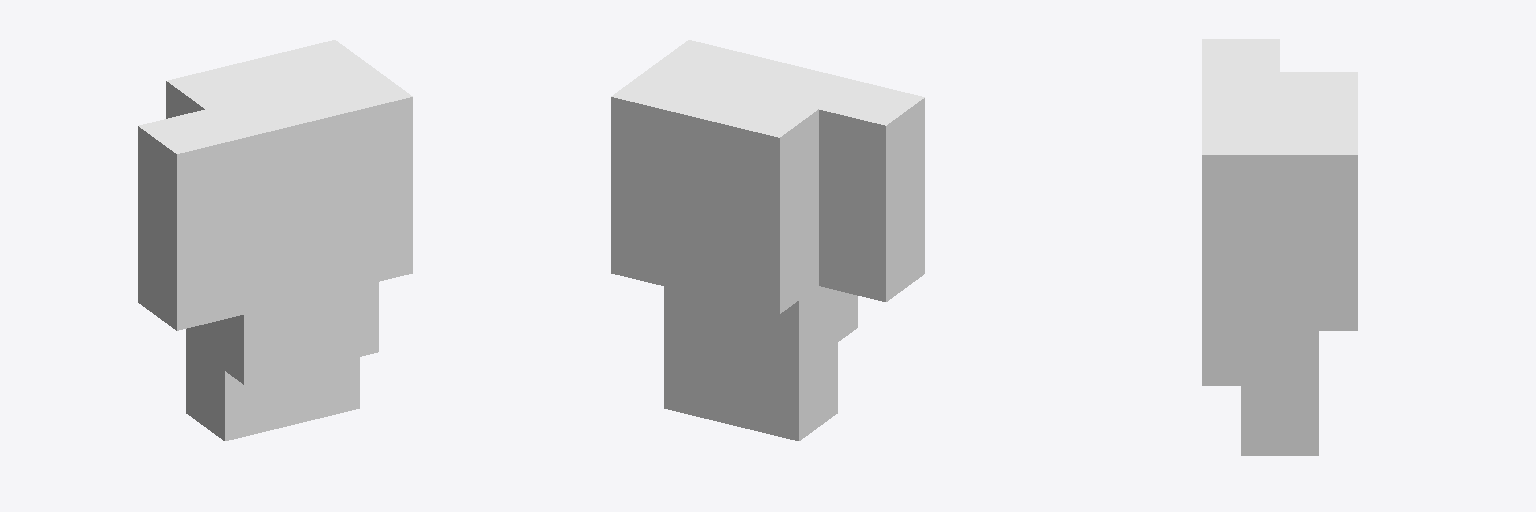
Rendered from Character1_LeftForearm.obj.
3 renders of one model, left to right at view 1: azimuth 30°, elevation 25°; view 2: azimuth 150°, elevation 25°; view 3: azimuth 270°, elevation 25°, orthographic.
Parts seen in each view (by area): view 1: object 1; view 2: object 1; view 3: object 1.
Boxes of the visible parts, x1,y1,x2,y2 form: object 1: [138, 40, 412, 440]; object 1: [611, 40, 924, 440]; object 1: [1202, 39, 1357, 455].
Size of the model in its own units: 0.7 by 0.9 by 0.4.